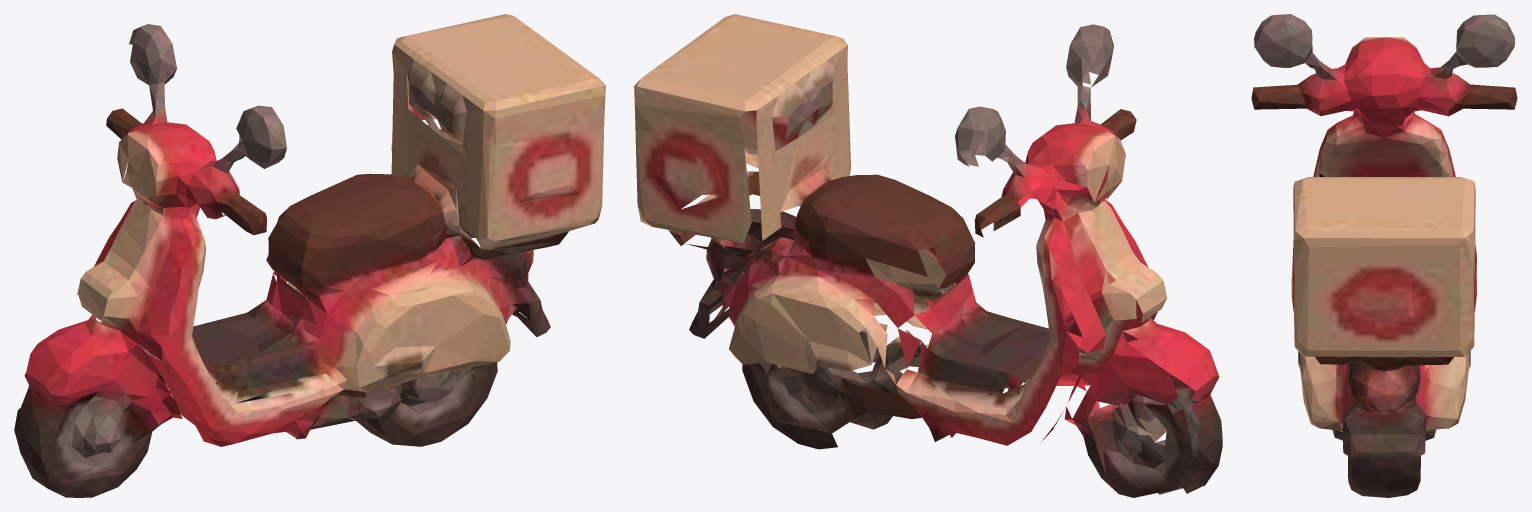
The model's file is M-10_10_scooter.glb.
3 renders of one model, left to right at view 1: azimuth 30°, elevation 25°; view 2: azimuth 150°, elevation 25°; view 3: azimuth 270°, elevation 25°, orthographic. The views are drawn at different scales.
Visible parts, largest first — view 1: loA; view 2: loA; view 3: loA.
Part boxes in pixels (<box>): loA: <box>14,14,605,497</box>; loA: <box>634,14,1222,497</box>; loA: <box>1251,14,1517,497</box>.
Bounding box in the file's own units: 2.36 × 1.74 × 1.11.
1 material, 1 textured.
